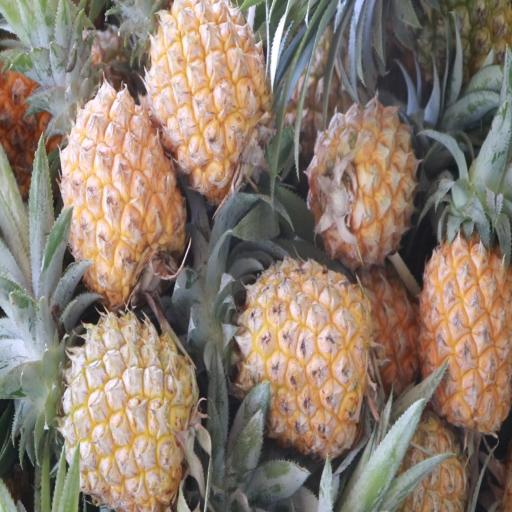Pineapple - v8 v1: (63, 309, 198, 512), (60, 86, 185, 298), (238, 257, 368, 454), (144, 0, 274, 187), (419, 226, 512, 428), (308, 105, 415, 268)
